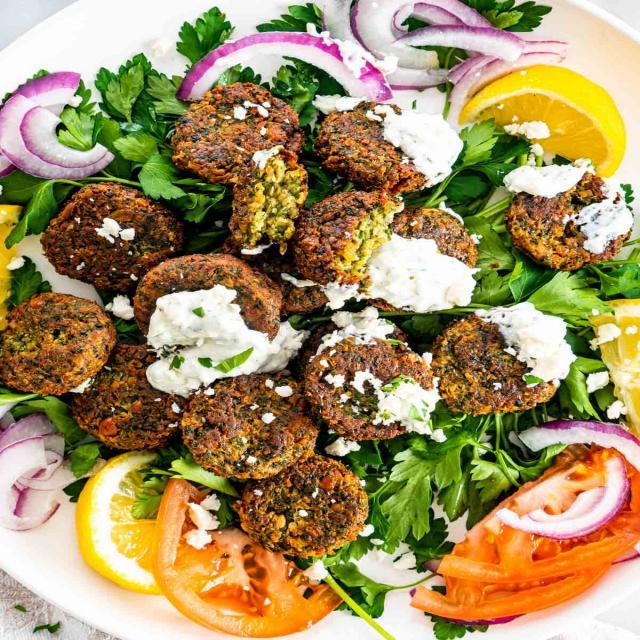flafel: (40, 181, 172, 291), (41, 181, 187, 279), (184, 372, 324, 474), (310, 336, 434, 450), (441, 307, 563, 413), (320, 103, 456, 193), (0, 290, 110, 401), (175, 86, 297, 183), (508, 175, 624, 271), (298, 189, 406, 279), (230, 150, 310, 252)
